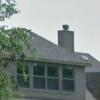Chimney: (51, 18, 81, 57)
